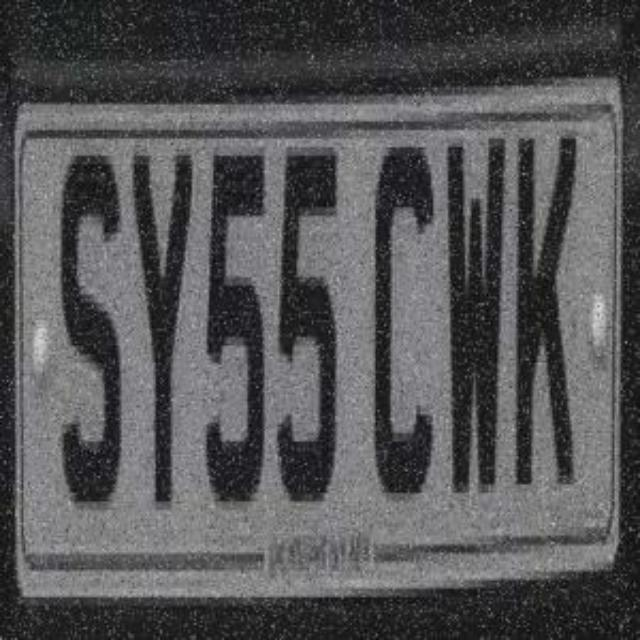License Plate: (2, 43, 628, 623)
